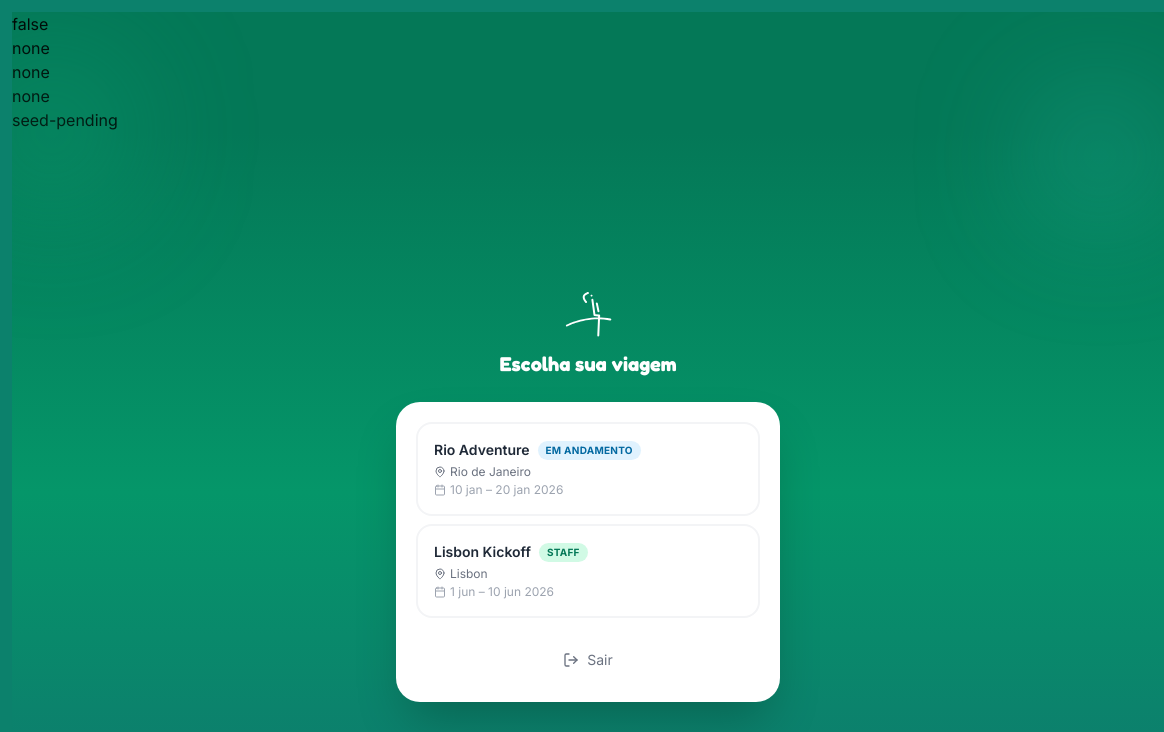
Test: TripSelectorScreen › shows a pt-BR message for the raw "Trip not available" backend error
Click the button "Rio Adventure" at (482, 450), box [416,422,760,516]
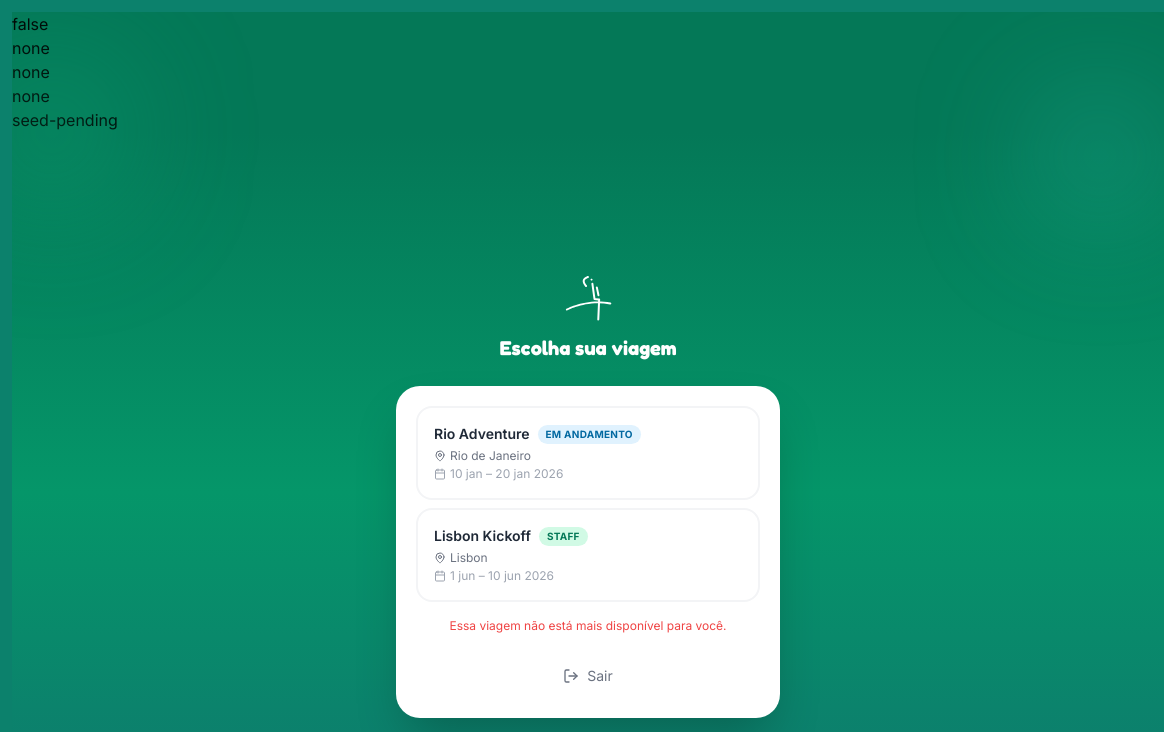
Expected: the message does not show "Trip not available", [450,618,727,633]
Expected: the message reads "Essa viagem não está mais disponível para você.", [450,618,727,633]
